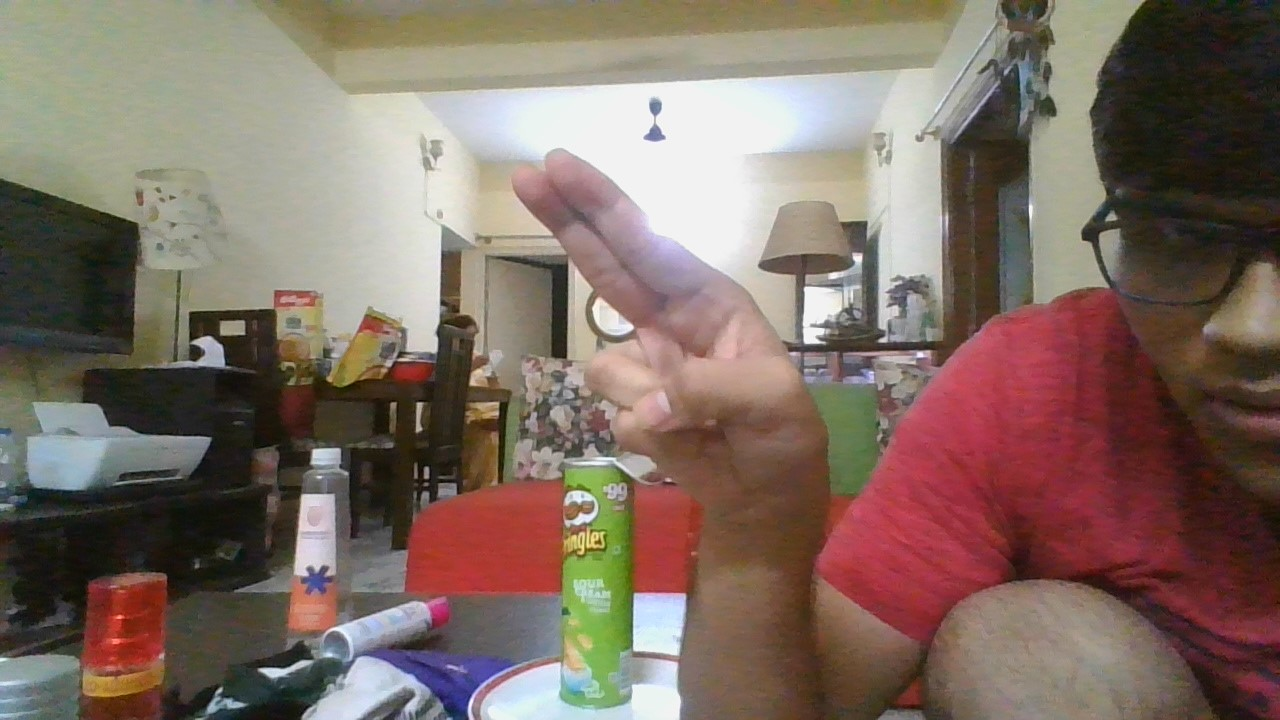u: (503, 143, 844, 522)
